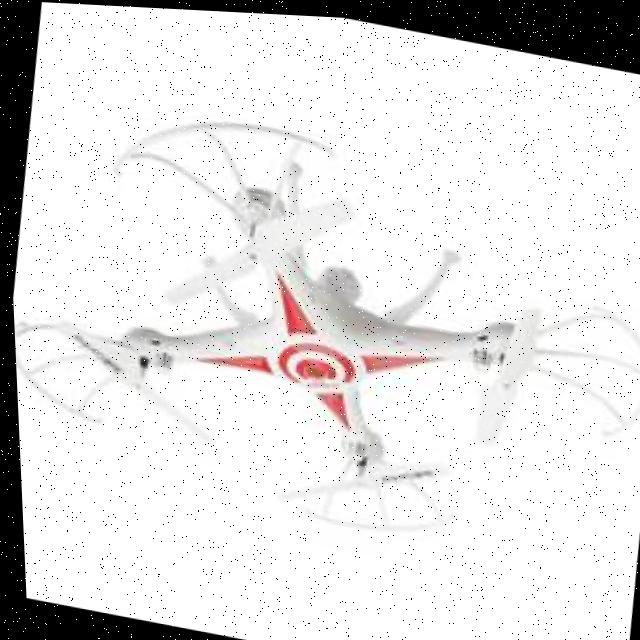drones: (1, 36, 640, 591)
